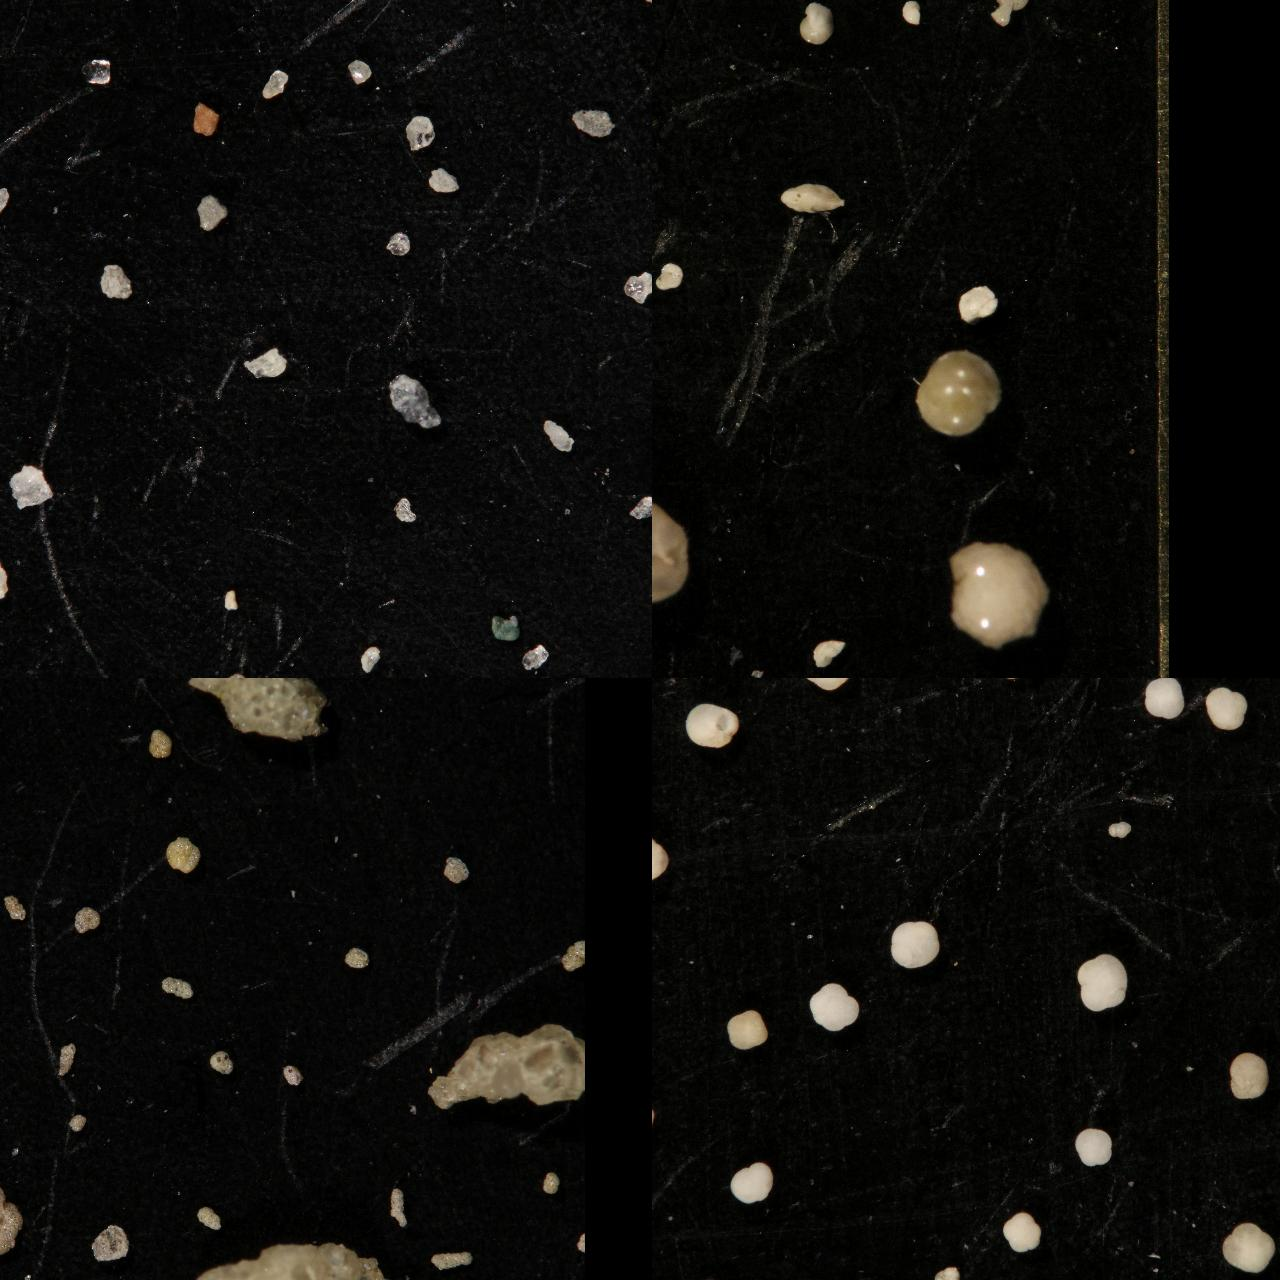Sediment: (387, 370, 442, 429), (8, 462, 54, 510), (0, 6, 25, 79), (240, 345, 286, 381), (570, 107, 617, 137), (98, 261, 132, 300), (196, 191, 226, 232), (402, 113, 434, 151), (621, 268, 652, 306), (542, 415, 572, 452), (55, 0, 109, 20), (0, 549, 20, 602), (617, 0, 652, 30), (516, 0, 559, 25), (191, 98, 218, 137), (488, 612, 520, 642), (428, 163, 458, 195), (259, 68, 290, 100), (80, 56, 110, 86), (517, 642, 547, 672), (383, 229, 410, 257), (393, 495, 417, 525), (628, 491, 652, 520), (346, 57, 370, 84), (358, 645, 380, 674), (0, 184, 18, 219), (305, 0, 334, 19), (578, 0, 602, 18), (222, 585, 237, 612), (343, 0, 365, 18), (144, 0, 168, 11), (224, 670, 250, 678)
agglutinated: (429, 1020, 584, 1108), (155, 678, 322, 749), (173, 1242, 408, 1280), (474, 678, 543, 717), (0, 1114, 32, 1176), (0, 1182, 27, 1254), (89, 1224, 127, 1260), (165, 836, 199, 872), (338, 678, 397, 690), (430, 1251, 471, 1269), (161, 975, 191, 999), (388, 1186, 406, 1226), (443, 855, 468, 883), (561, 938, 583, 971), (73, 906, 98, 932), (40, 678, 69, 700), (0, 886, 18, 922), (342, 944, 368, 968), (148, 729, 170, 757), (207, 1049, 232, 1074), (1, 893, 25, 919), (197, 1206, 219, 1230), (57, 1042, 73, 1076), (503, 678, 538, 692), (0, 836, 15, 866), (281, 1064, 302, 1084), (0, 1107, 9, 1146), (542, 1170, 558, 1192), (12, 678, 38, 692), (361, 678, 387, 692), (68, 1112, 84, 1130), (0, 1034, 9, 1056), (0, 678, 11, 689)
calcareous: (946, 539, 1049, 647), (652, 486, 726, 604), (912, 347, 1003, 436), (652, 0, 697, 64), (779, 179, 844, 215), (796, 0, 835, 45), (956, 282, 998, 324), (810, 636, 844, 669), (661, 0, 708, 23), (989, 0, 1029, 27), (652, 0, 674, 47), (652, 599, 676, 638), (654, 259, 682, 291), (686, 0, 726, 21), (828, 0, 864, 20), (652, 207, 669, 248), (899, 0, 920, 27), (652, 0, 672, 25), (652, 425, 665, 455), (652, 0, 666, 15), (652, 0, 665, 16), (652, 0, 663, 12)
planktic: (1075, 952, 1128, 1013), (1220, 1219, 1276, 1275), (806, 980, 860, 1032), (682, 700, 740, 745), (888, 919, 940, 969), (1228, 1049, 1269, 1101), (1203, 685, 1247, 731), (727, 1159, 772, 1203), (726, 1008, 769, 1050), (1001, 1210, 1042, 1254), (1142, 678, 1184, 720), (1073, 1125, 1112, 1167), (745, 678, 799, 707), (931, 678, 980, 708), (1073, 678, 1123, 707), (652, 833, 679, 887), (1190, 678, 1241, 704), (1158, 678, 1207, 706), (799, 678, 855, 701), (935, 678, 983, 703), (652, 1088, 673, 1146), (891, 678, 939, 702), (655, 678, 697, 701), (993, 678, 1039, 699), (928, 1262, 958, 1280), (1107, 818, 1130, 838)
